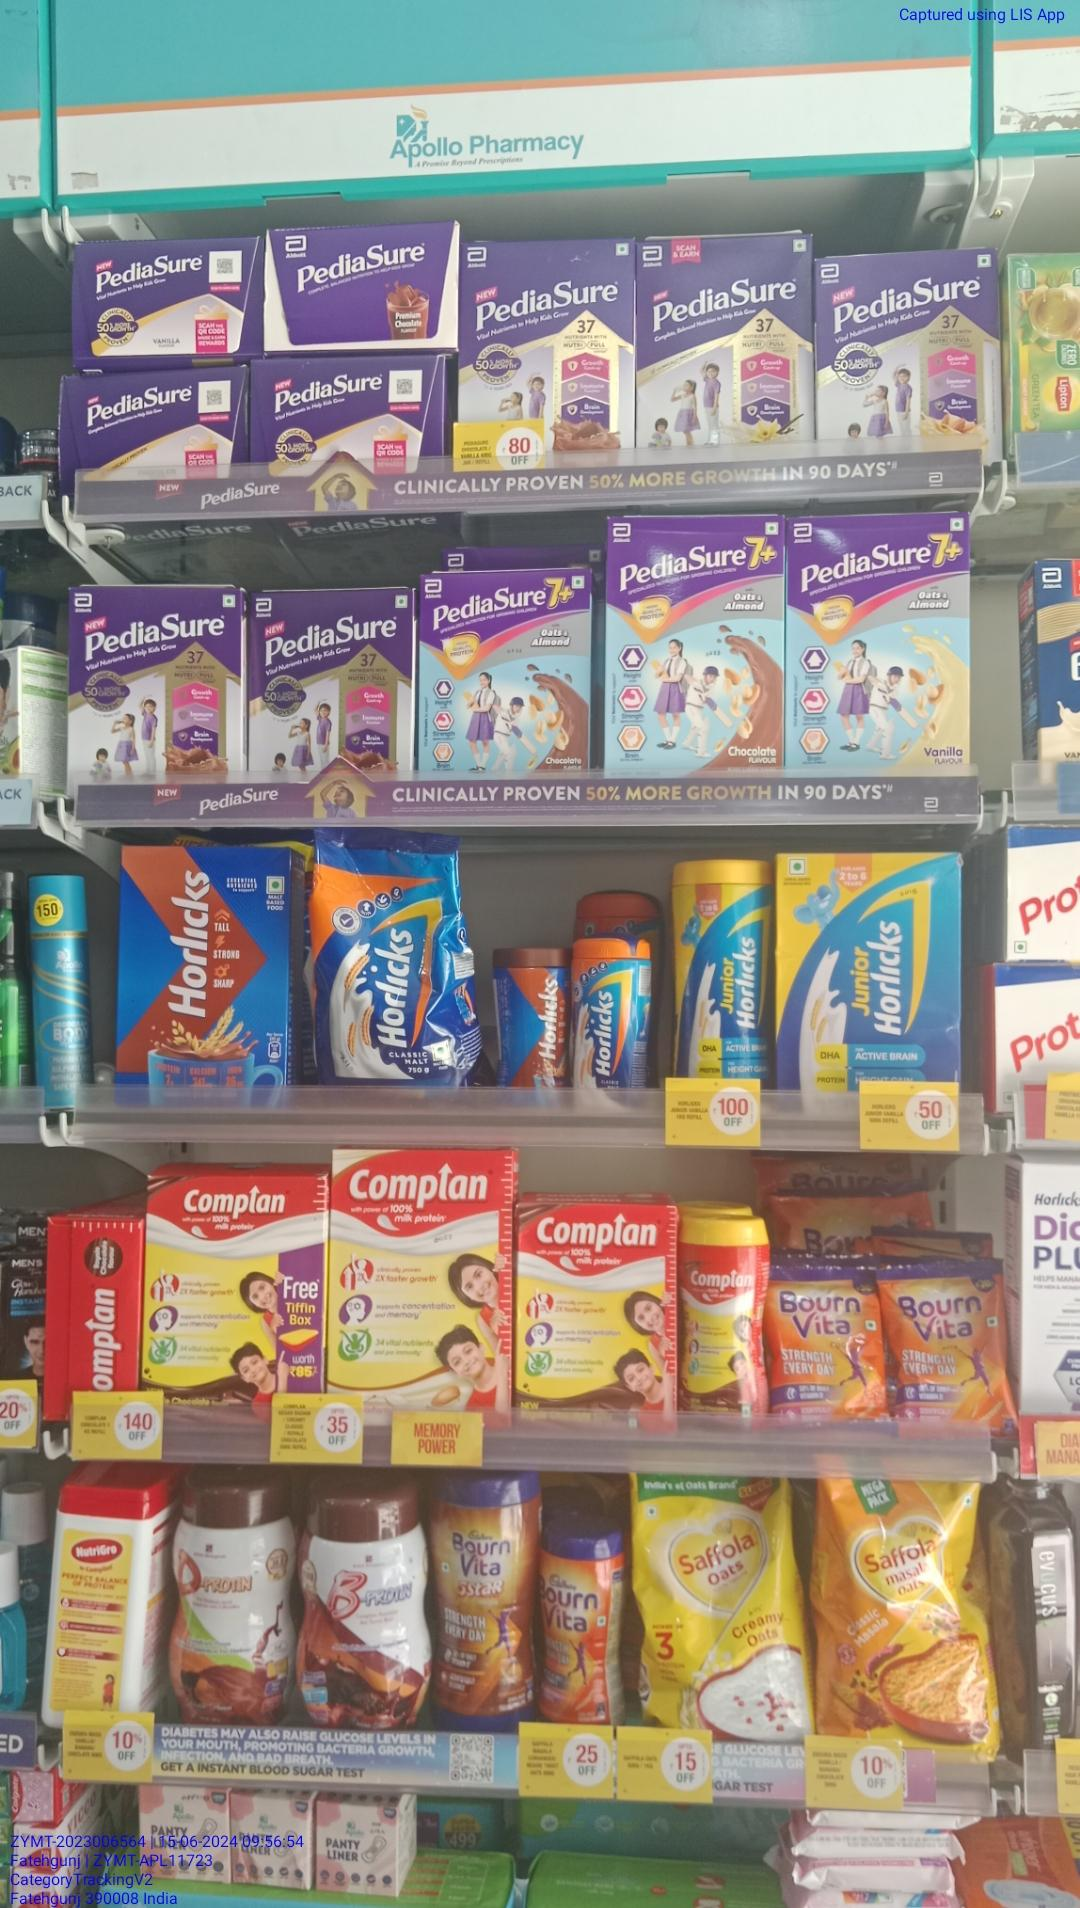BOURN_VITA_200_G_JAR: (536, 1531, 621, 1727)
BOURN_VITA_75_G_POUCH: (886, 1262, 1009, 1424), (775, 1267, 881, 1424)
BOURN_VITA_FIVE_STAR_MAGIC_500_G_JAR: (434, 1472, 530, 1723)
COMPLAN_CHOCOLATE_200_GMS_JAR: (679, 1220, 767, 1432)
COMPLAN_CHOCOLATE_200_GMS_PACK: (144, 1172, 324, 1394), (514, 1203, 675, 1435)
COMPLAN_KESAR_BADAM_500_GMS_PACK: (329, 1149, 512, 1410)
HORLICK_CHOCOLATE_1_KG_PACK: (114, 844, 298, 1088)
HORLICK_CHOCOLATE_200_G_JAR: (498, 946, 568, 1092)
HORLICK_CLASSIC_MALT_200_G_JAR: (570, 937, 647, 1114)
HORLICK_CLASSIC_MALT_750_G_POUCH: (311, 830, 461, 1084)
PEDIASURE_7_PLUS_CHOCOLATE_400_G_PACK: (417, 573, 592, 777)
PEDIASURE_CHOCOLATE_500_G_PACK: (67, 584, 244, 781), (459, 238, 636, 418), (250, 587, 409, 778)
PEDIASURE_VANILLA_500_G_PACK: (641, 235, 813, 448)
